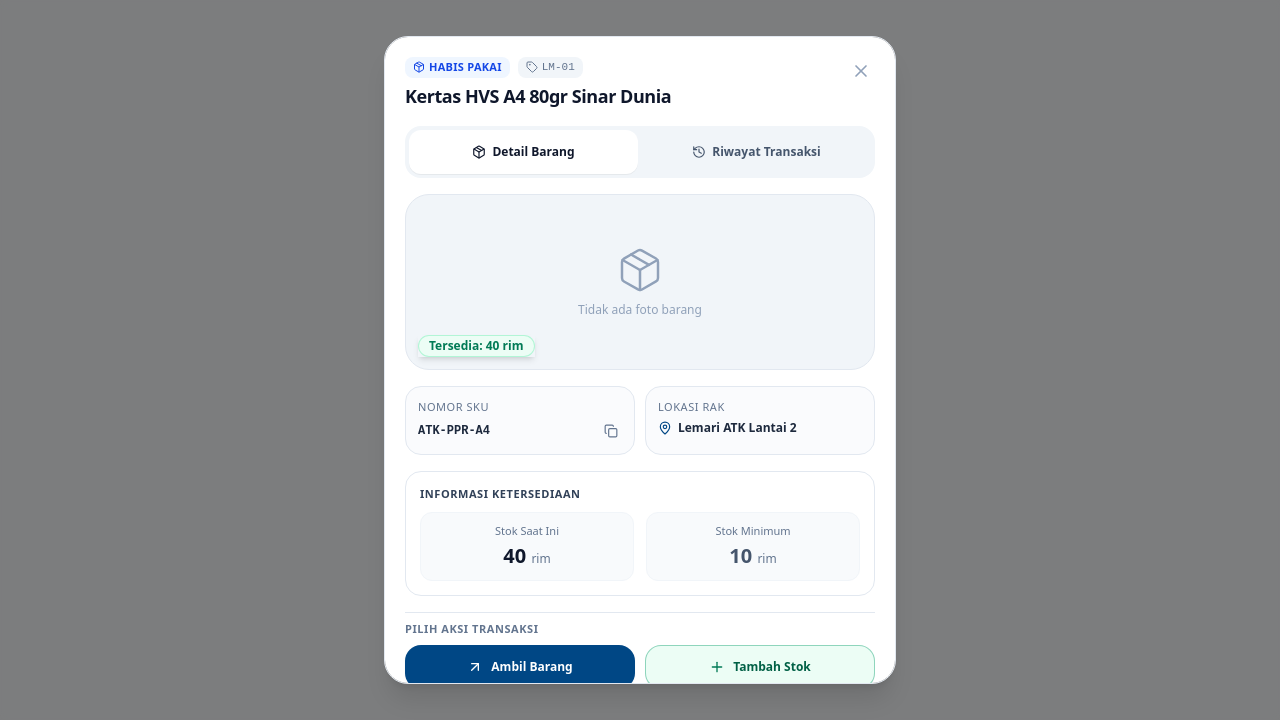
Scenario: TransactionForm Component (Task P3.2) › transitions seamlessly from ItemDetailSheet into TransactionForm and back
The image size is (1280, 720).
// Click Ambil Barang in detail view
Click the button with test id "action-take-btn" at (520, 667), box [405,645,635,689]
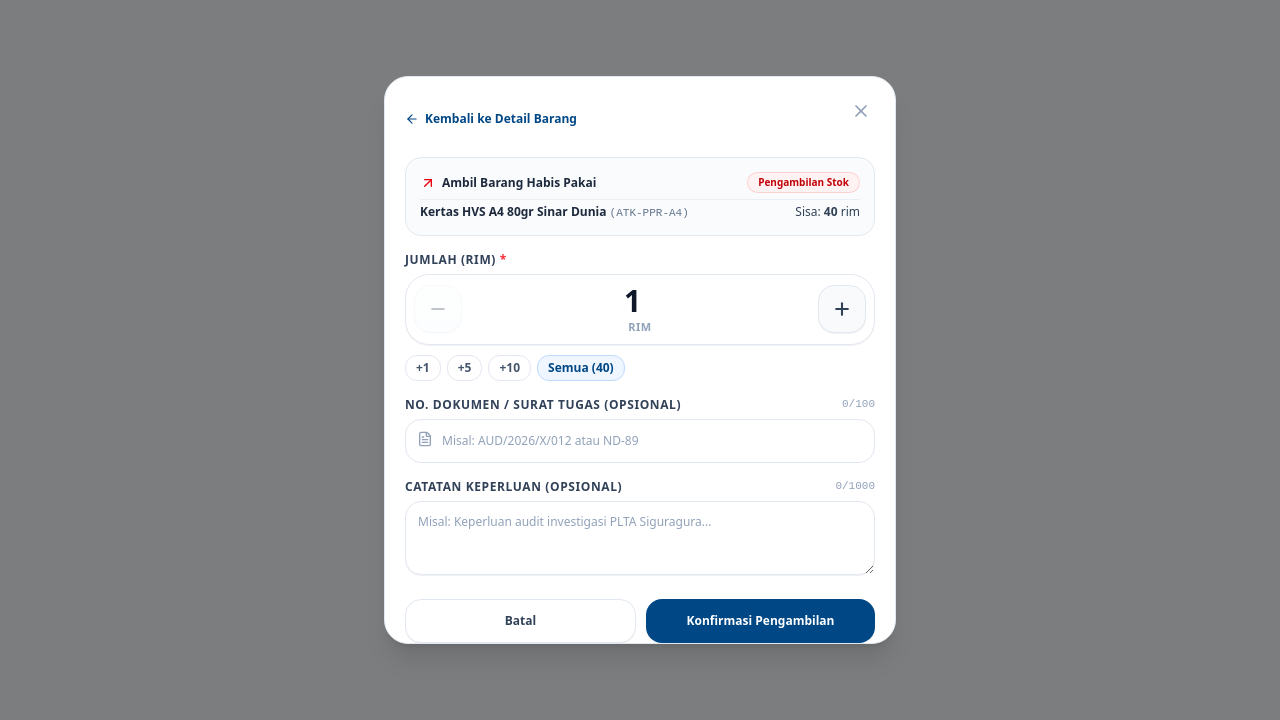
Now the number field with test id "stepper-quantity-input" is shown, box [474,283,806,319]
Now the button with test id "back-to-detail-btn" is shown
// Click back to detail
Click the button with test id "back-to-detail-btn" at (491, 119), box [405,97,577,141]
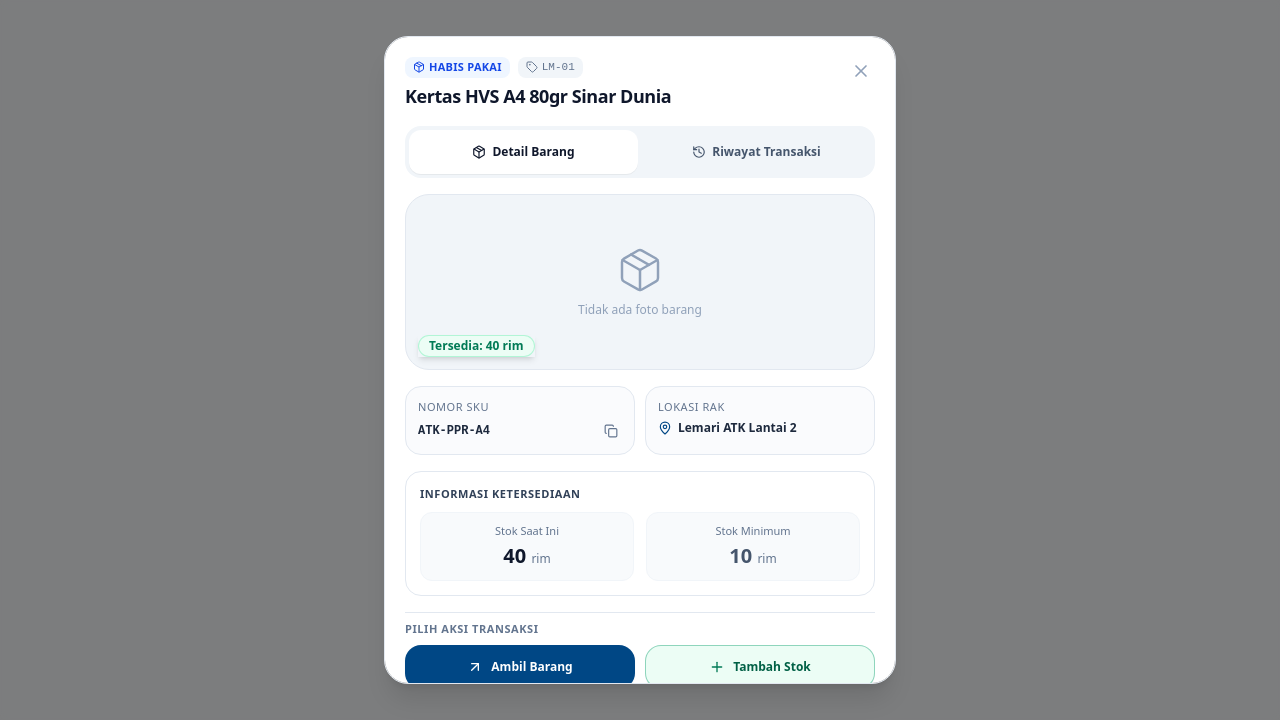
Expected: the button with test id "action-take-btn" is shown, [405,645,635,684]
Now the number field with test id "stepper-quantity-input" is gone
